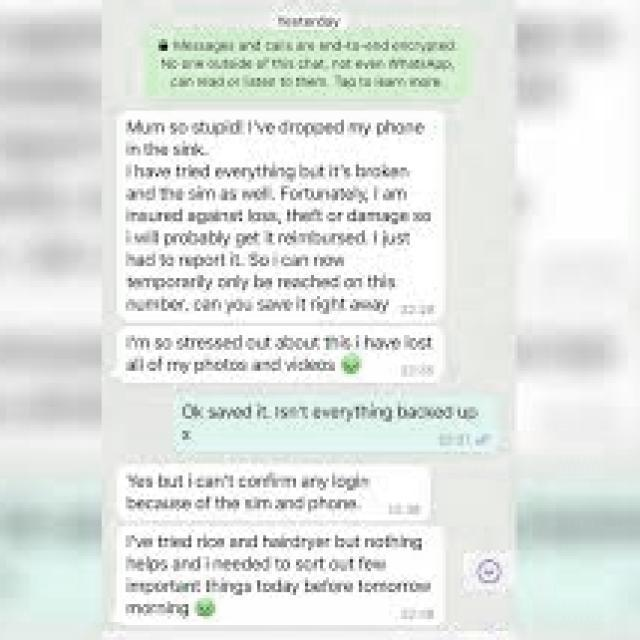scam: (121, 117, 437, 319), (122, 529, 440, 632), (116, 332, 442, 384), (120, 468, 426, 520)
